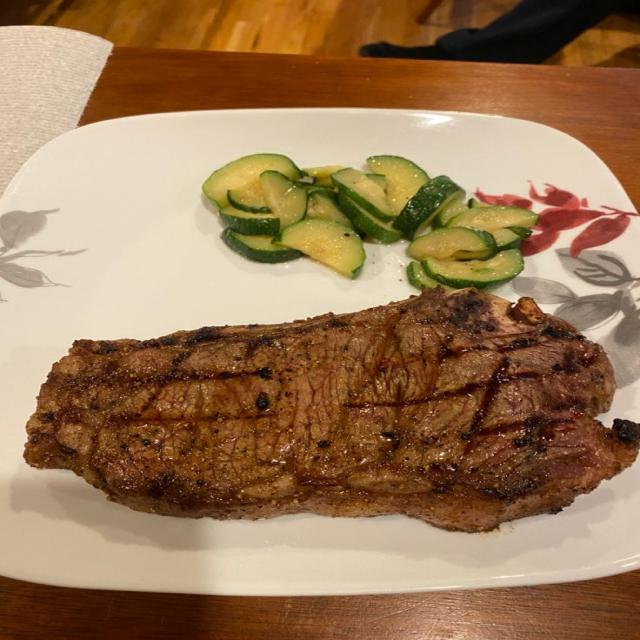beef steak: (24, 287, 639, 532)
cucumber sliced: (274, 219, 366, 278), (203, 154, 301, 208), (394, 176, 464, 239), (423, 250, 523, 289), (367, 156, 429, 214), (332, 168, 394, 221), (339, 194, 401, 243), (221, 228, 302, 262), (408, 228, 496, 259), (260, 170, 307, 228), (447, 206, 539, 232), (220, 206, 279, 235), (307, 191, 353, 228), (227, 182, 270, 212), (407, 261, 452, 289), (433, 198, 468, 228), (302, 166, 344, 187), (492, 228, 521, 250), (367, 173, 386, 189), (507, 227, 532, 239), (467, 198, 491, 208)
